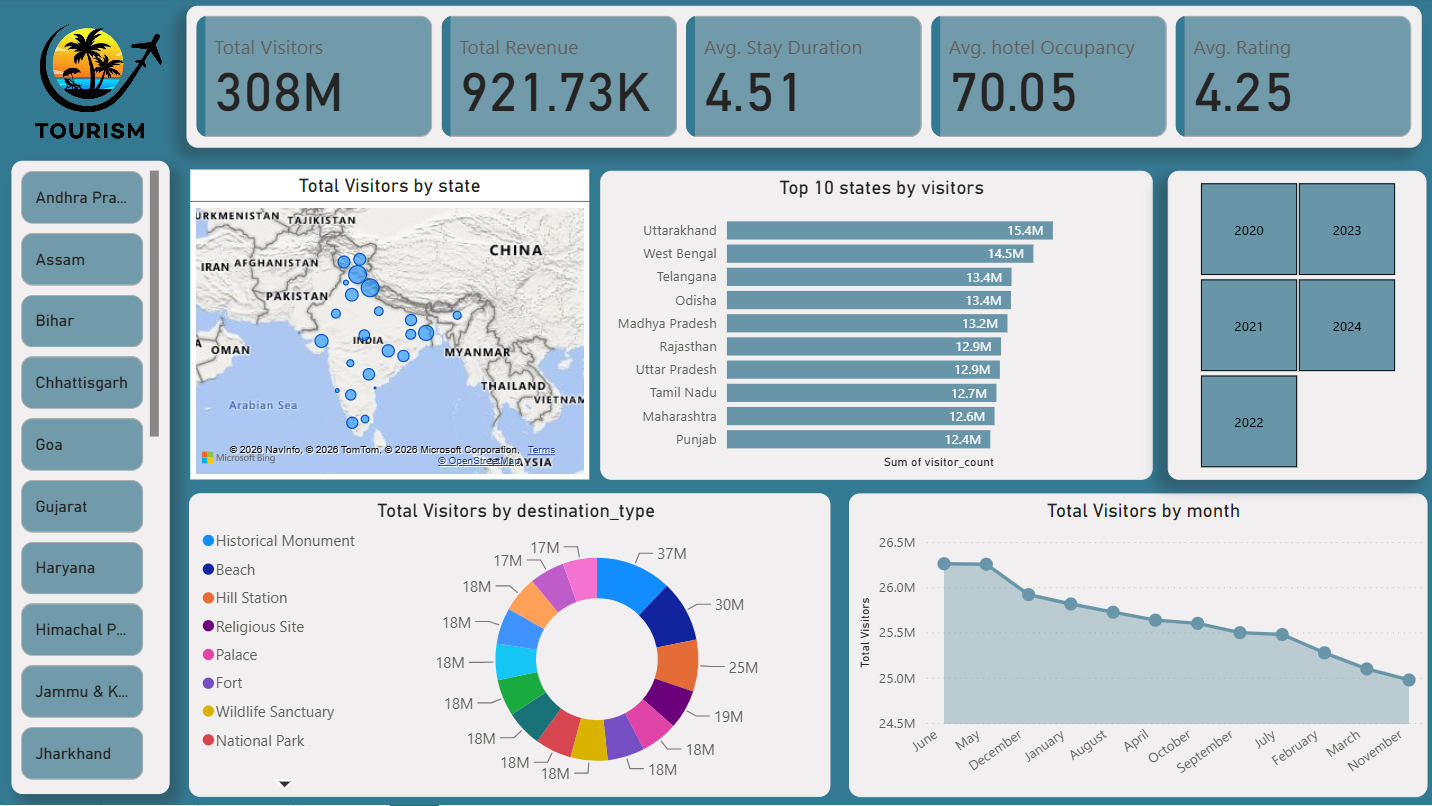

This screenshot's page, from the dashboard's own definition file:
{"tool":"powerbi","page":{"name":"Page 2","canvas":[1280,720],"ordinal":1},"visuals":[{"type":"cardVisual","fields":{"Data":["main_data.Total Visitors","main_data.Total Revenue","Avg(main_data.average_stay_days)","Avg(main_data.hotel_occupancy_rate)","Avg(main_data.visitor_rating)"]},"box":[167.2,7.8,1100,126.6],"z":1000},{"type":"advancedSlicerVisual","fields":{"Values":["main_data.state"]},"box":[10.9,145.4,140.7,564.2],"z":2000},{"type":"map","fields":{"Category":["main_data.state"],"Size":["main_data.Total Visitors"]},"box":[170,153.3,355,275],"z":3000},{"type":"clusteredBarChart","title":"Top 10 states by visitors","fields":{"Category":["main_data.state"],"Y":["Sum(main_data.visitor_count)"]},"box":[535,155,491.7,275],"z":4000},{"type":"donutChart","fields":{"Y":["main_data.Total Visitors"],"Category":["main_data.destination_type"]},"box":[169.5,441.4,571,270.3],"z":5000},{"type":"areaChart","fields":{"Category":["main_data.month"],"Y":["main_data.Total Visitors"]},"box":[756.5,441.4,515,270.3],"z":6000},{"type":"slicer","fields":{"Values":["main_data.year"]},"box":[1041.2,155.1,230.3,275.1],"z":7000},{"type":"image","box":[10.9,7.8,140.7,126.6],"z":8000}]}

Visuals, with their boxes in screenshot pixels (x1, y1, x2, y2), scaled from the page's 1280x720 canvas onto the 1432x806 screenshot:
cardVisual - main_data.Total Visitors x main_data.Total Revenue: [x1=187, y1=9, x2=1418, y2=150]
advancedSlicerVisual - main_data.state: [x1=12, y1=163, x2=170, y2=794]
map - main_data.state x main_data.Total Visitors: [x1=190, y1=172, x2=587, y2=479]
"Top 10 states by visitors" clusteredBarChart: [x1=599, y1=174, x2=1149, y2=481]
donutChart - main_data.Total Visitors x main_data.destination_type: [x1=190, y1=494, x2=828, y2=797]
areaChart - main_data.month x main_data.Total Visitors: [x1=846, y1=494, x2=1422, y2=797]
slicer - main_data.year: [x1=1165, y1=174, x2=1422, y2=482]
image: [x1=12, y1=9, x2=170, y2=150]
